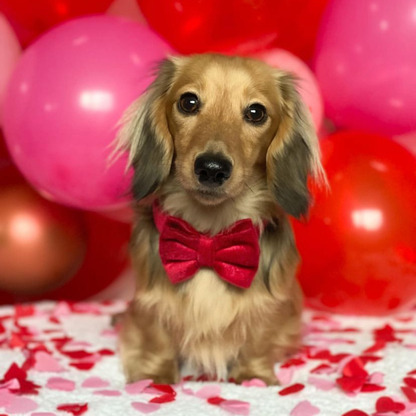dachshund: (119, 43, 336, 382)
